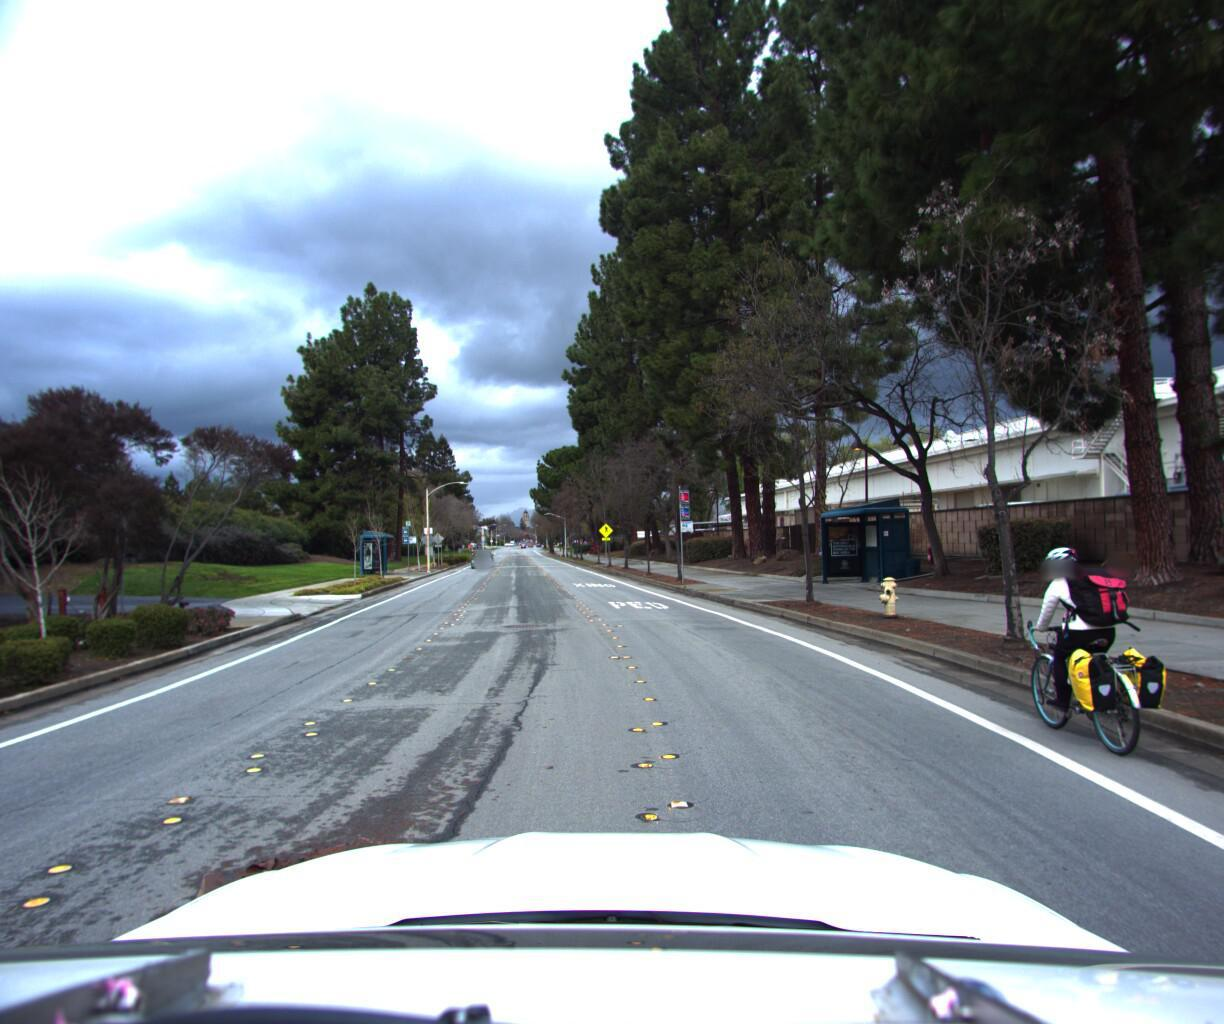bicycle: (985, 540, 1210, 779)
car: (470, 543, 494, 564)
truck: (880, 483, 953, 553)
